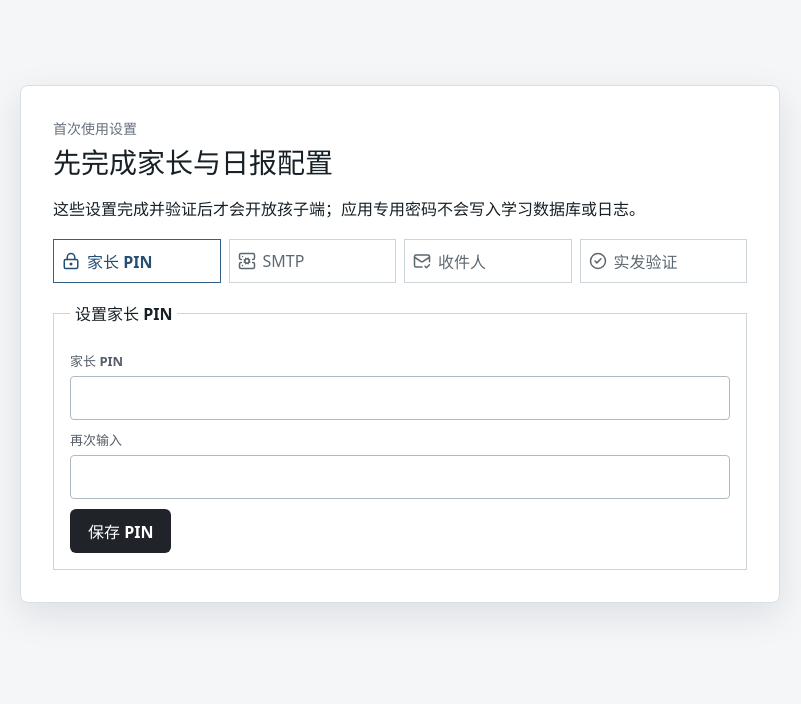
Test case: requires a new explicit password after 初始化SMTP端口 changes and never sends the old protected secret
The image size is (801, 704).
In the password field named "初始化家长PIN": {"x": 400, "y": 398} [70, 376, 730, 420], type "2468"
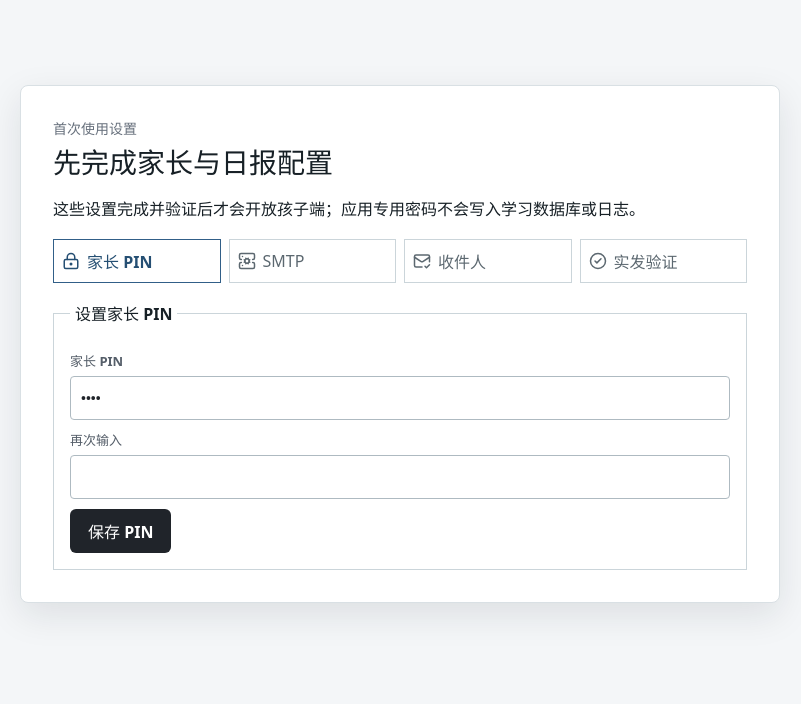
In the password field named "再次输入家长PIN": {"x": 400, "y": 477} [70, 455, 730, 499], type "2468"
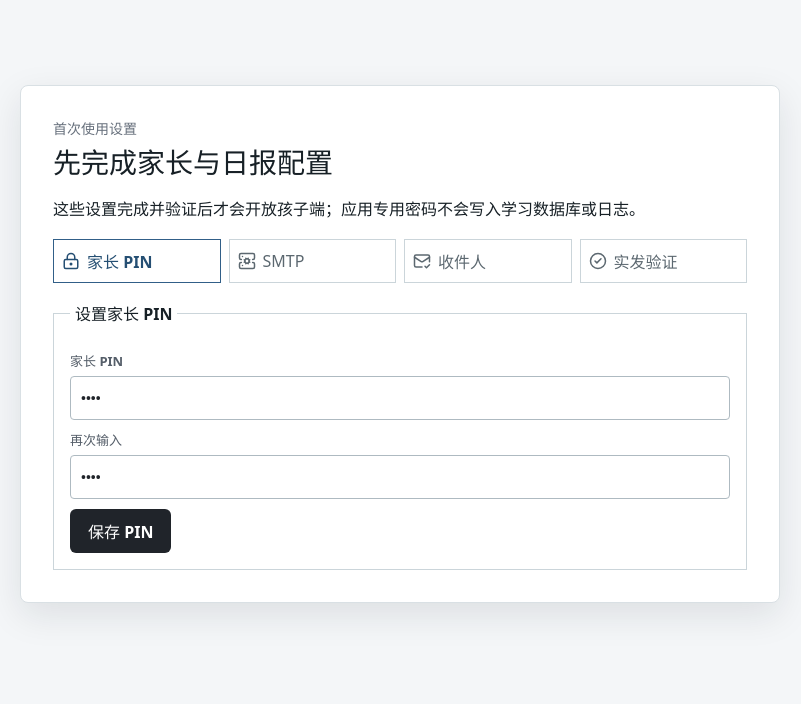
Click the button "保存 PIN": {"x": 121, "y": 531} [70, 509, 172, 553]
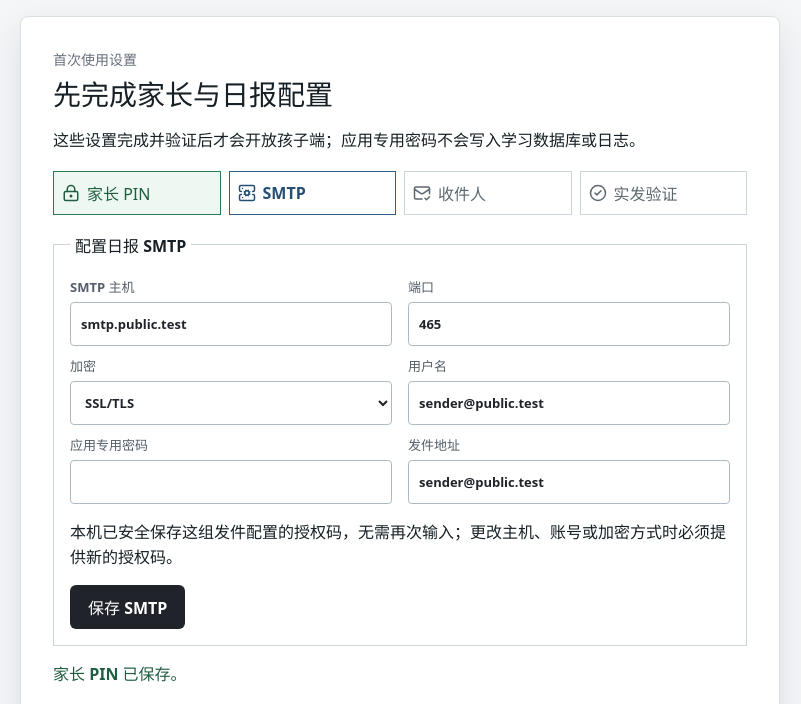
Result: the field named "初始化SMTP主机" holds "smtp.public.test" at [70, 302, 392, 346]
Replace the text in the field named "初始化SMTP端口" with "587": {"x": 569, "y": 324} [408, 302, 730, 346]
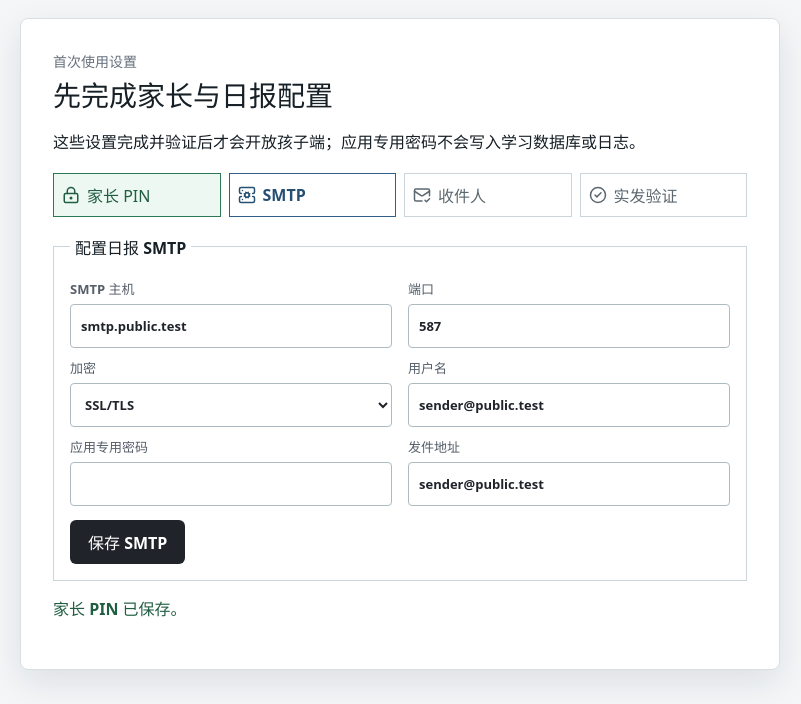
Click the button "保存 SMTP": {"x": 128, "y": 542} [70, 520, 185, 564]
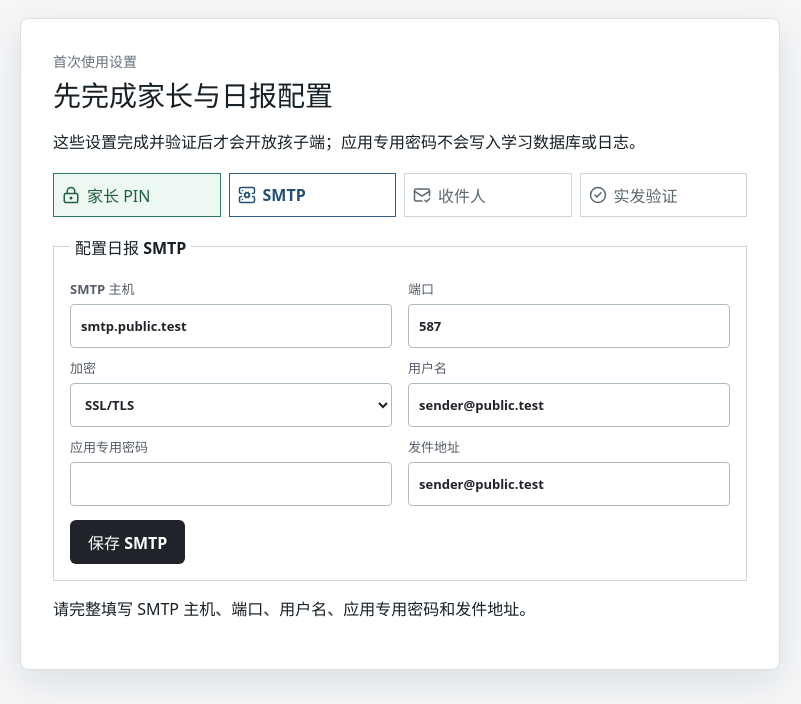
Result: the message shows "请完整填写" at [53, 598, 535, 620]
